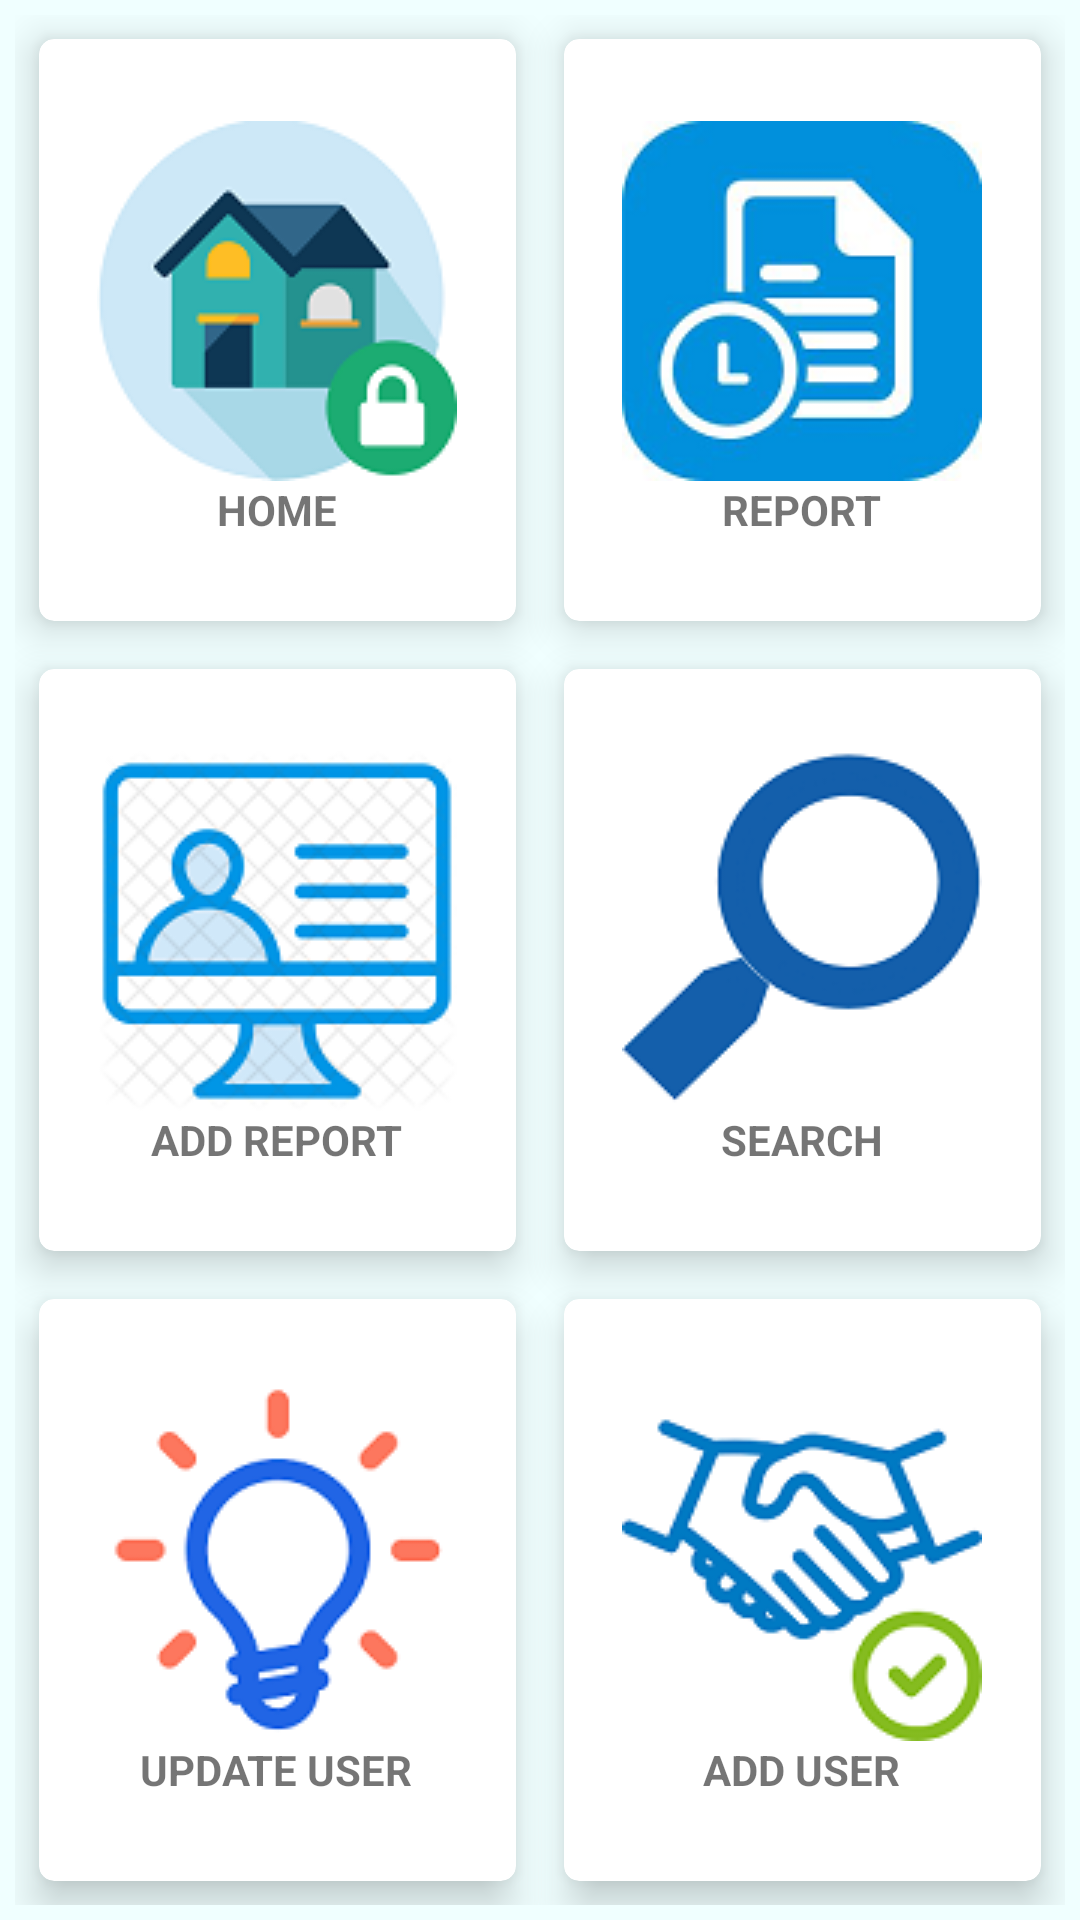

Icon bounding boxes for this 1080×1920 phone screenshot, format (x1,y1,x2,y2):
bulb: (114,1389,441,1730)
